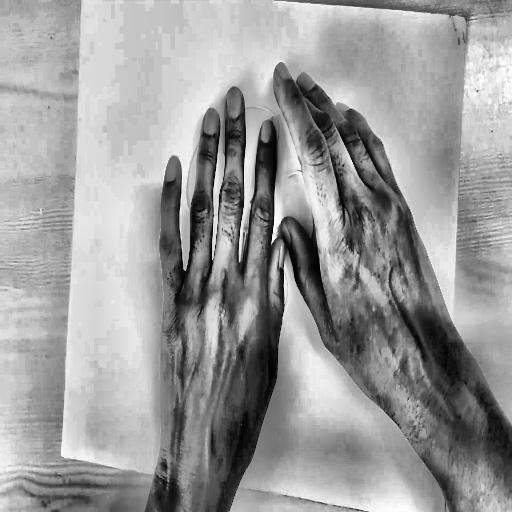bottom_left: (57, 446, 66, 462)
flower: (162, 88, 338, 463)
top_right: (461, 11, 470, 26)
